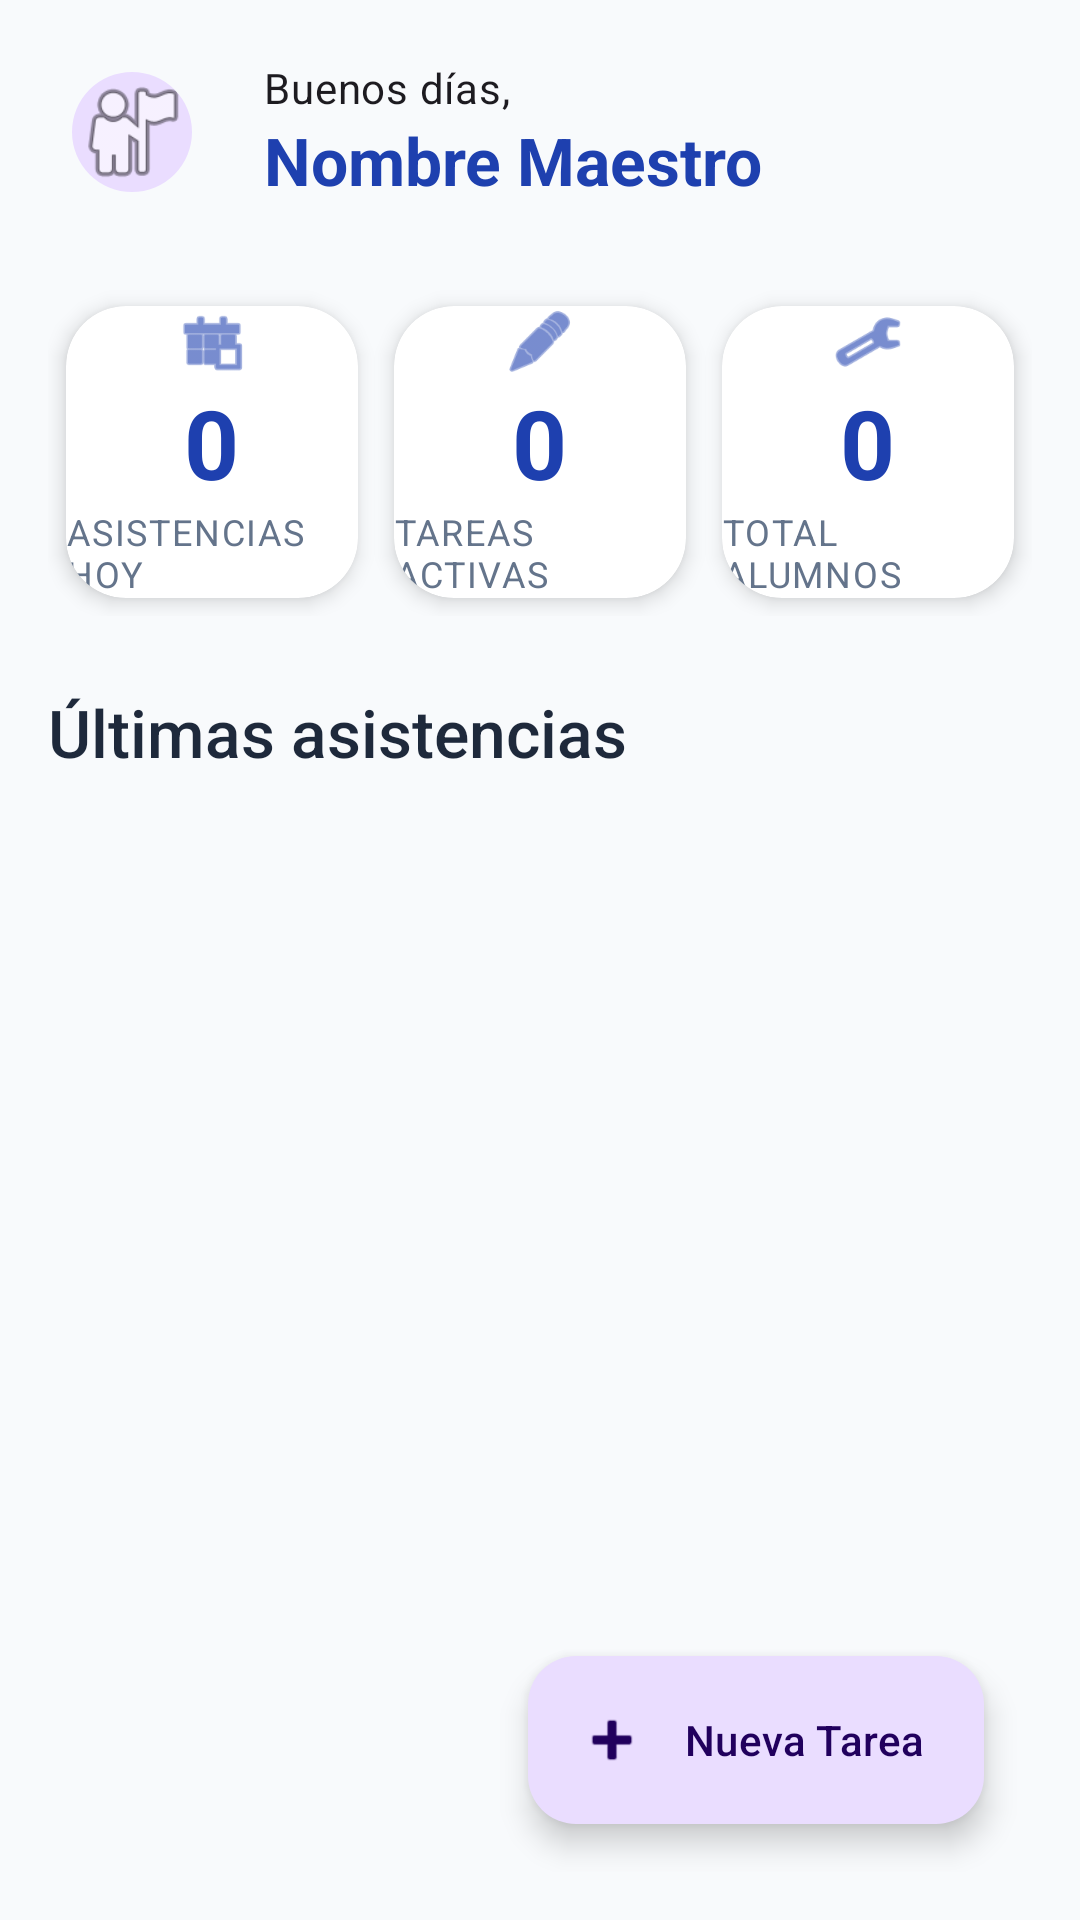

Named icons in this screenshot (1080 × 1920) and their centers, (x=x, y=y):
edit: (x=539, y=341)
manage: (x=867, y=342)
today: (x=212, y=343)
